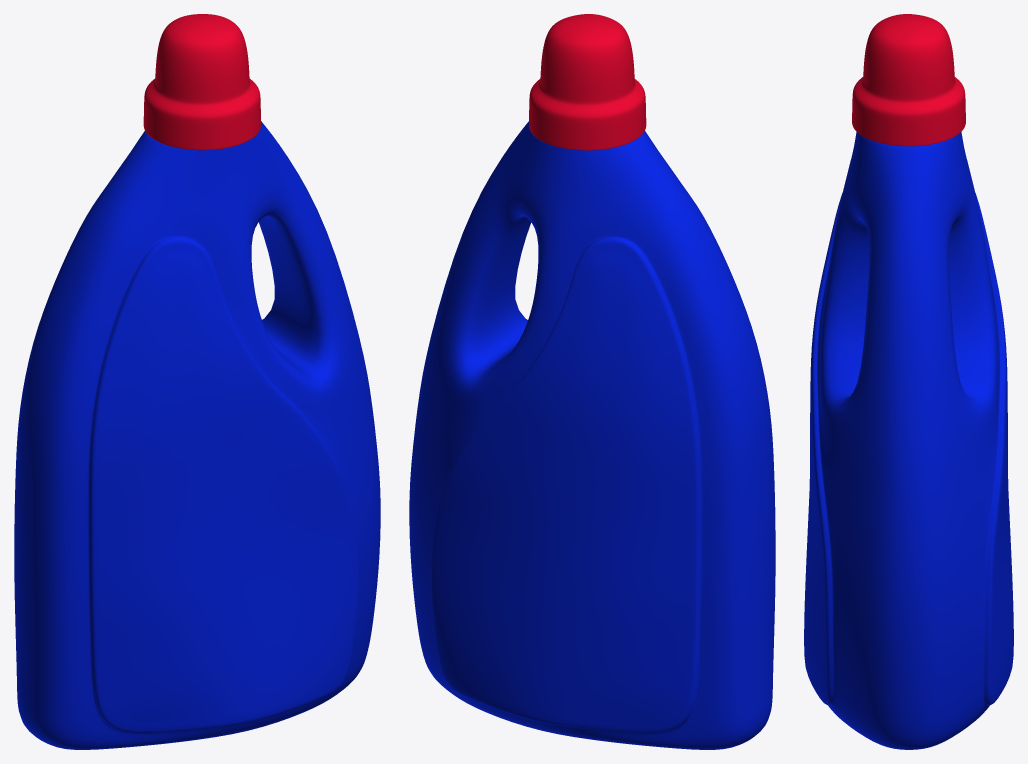
Rendered from Pipe1.glb.
The picture shows the model from 3 angles, left to right: view 1: azimuth 30°, elevation 25°; view 2: azimuth 150°, elevation 25°; view 3: azimuth 270°, elevation 25°; orthographic projection. The views are drawn at different scales.
Visible parts, largest first — view 1: Cube, cap; view 2: Cube, cap; view 3: Cube, cap.
Boxes of the visible parts, left/top/right/bottom form: Cube: left=14, top=121, right=380, bottom=749; cap: left=143, top=14, right=261, bottom=150; Cube: left=409, top=121, right=775, bottom=749; cap: left=529, top=14, right=646, bottom=150; Cube: left=804, top=132, right=1013, bottom=749; cap: left=852, top=14, right=965, bottom=146.
Bounding box in the file's own units: 2.39 × 4.49 × 1.29.
